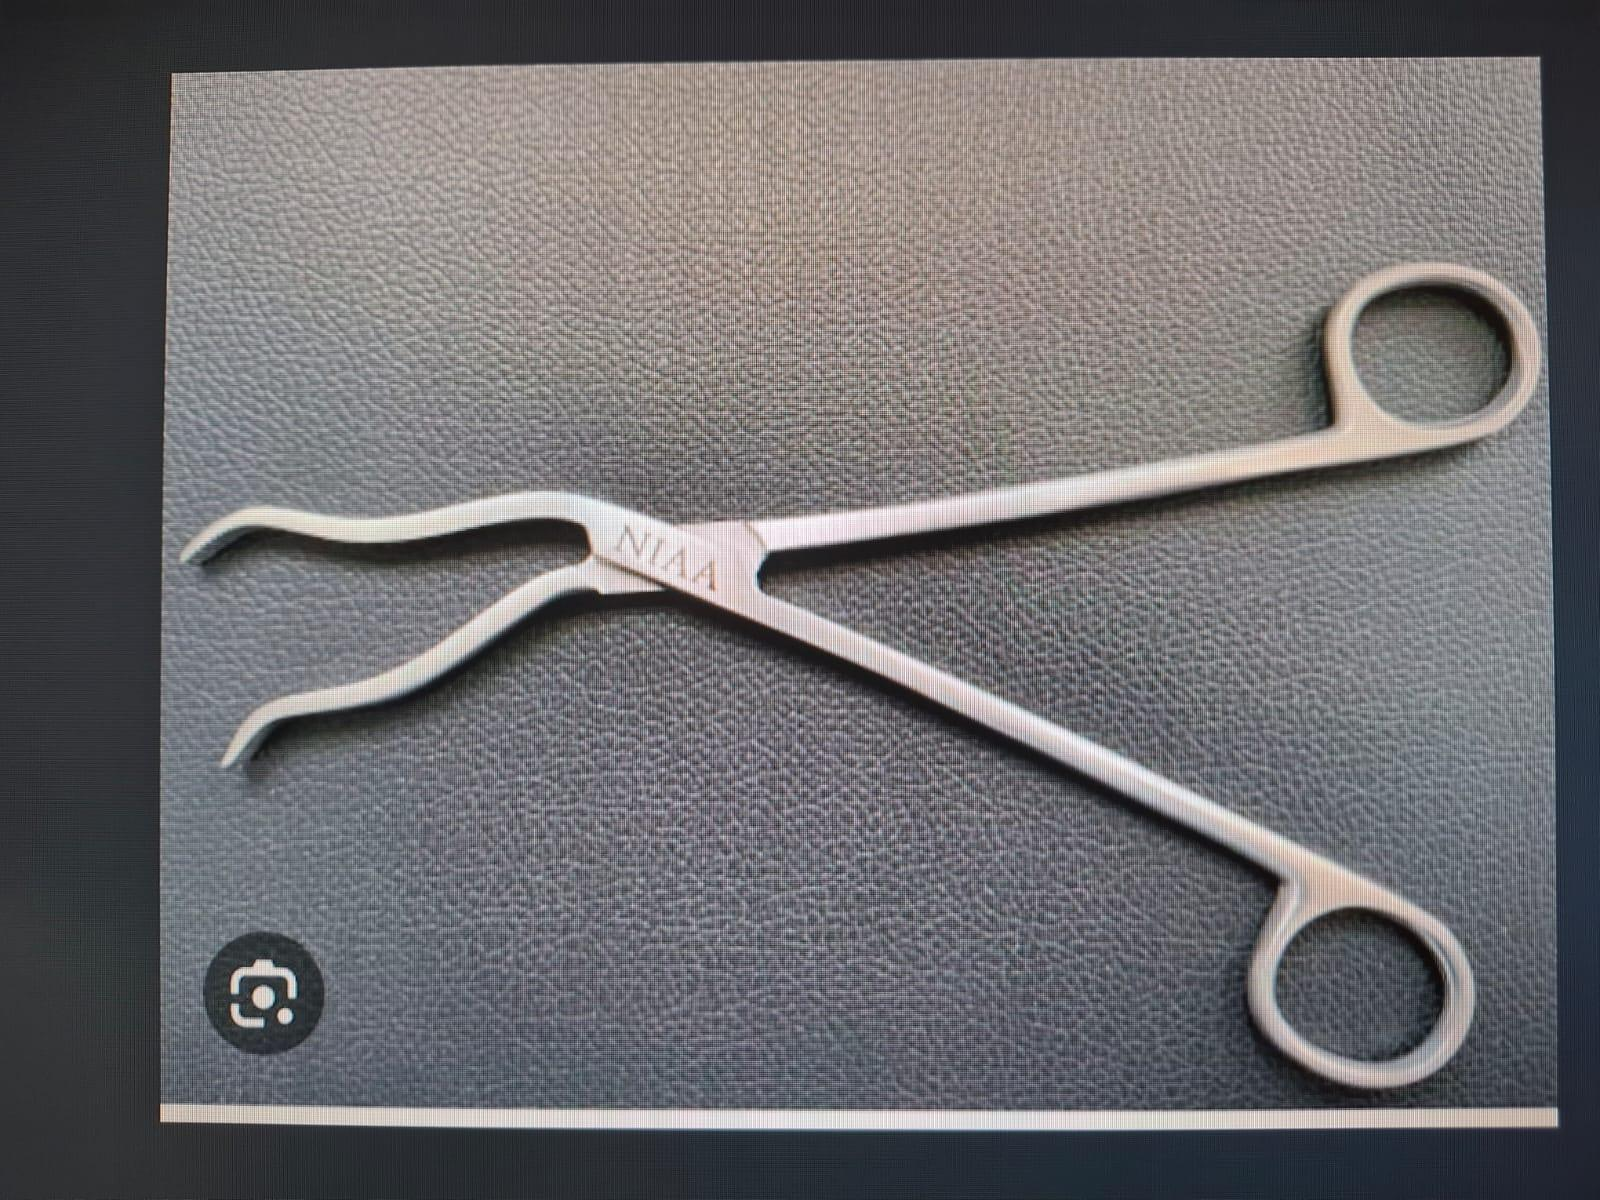Cheatle Forceps: (176, 262, 1554, 1114)
